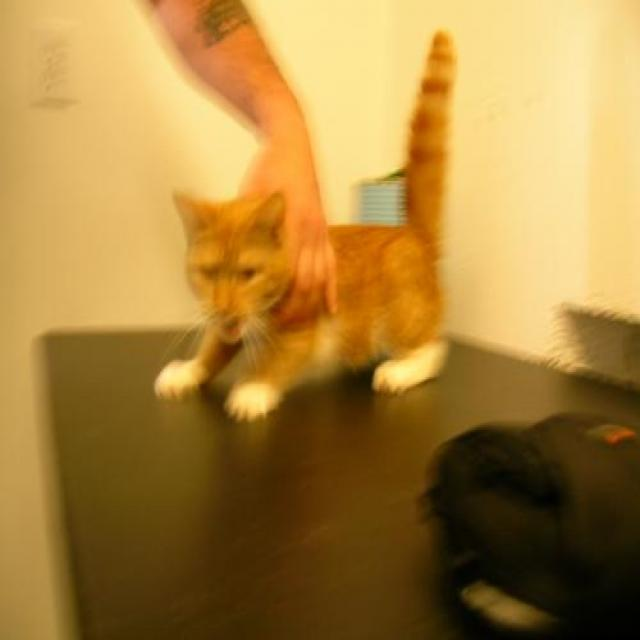cat: (139, 28, 468, 426)
